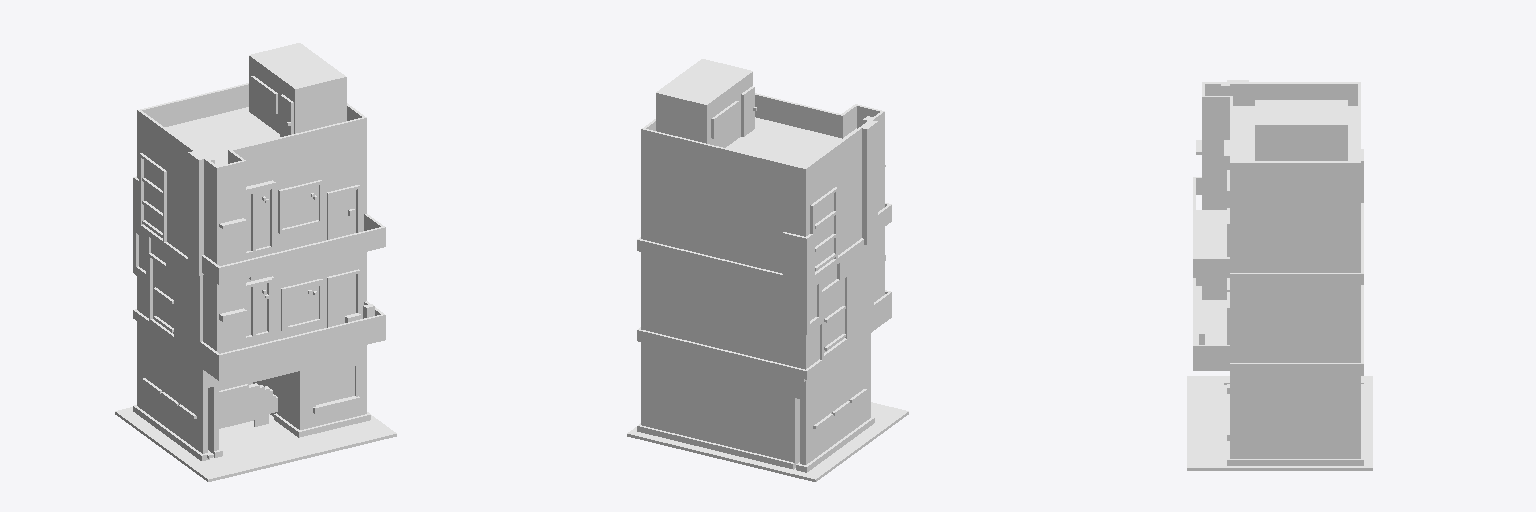
The model's file is Edificio3.obj.
3 views of the same model, side by side, from view 1: azimuth 30°, elevation 25°; view 2: azimuth 150°, elevation 25°; view 3: azimuth 270°, elevation 25° (orthographic).
Parts seen in each view (by area): view 1: object 1; view 2: object 1; view 3: object 1.
Boxes of the visible parts, x1,y1,x2,y2 form: object 1: [115, 43, 396, 481]; object 1: [627, 59, 908, 481]; object 1: [1187, 80, 1372, 470].
Size of the model in its own units: 7 by 12 by 6.